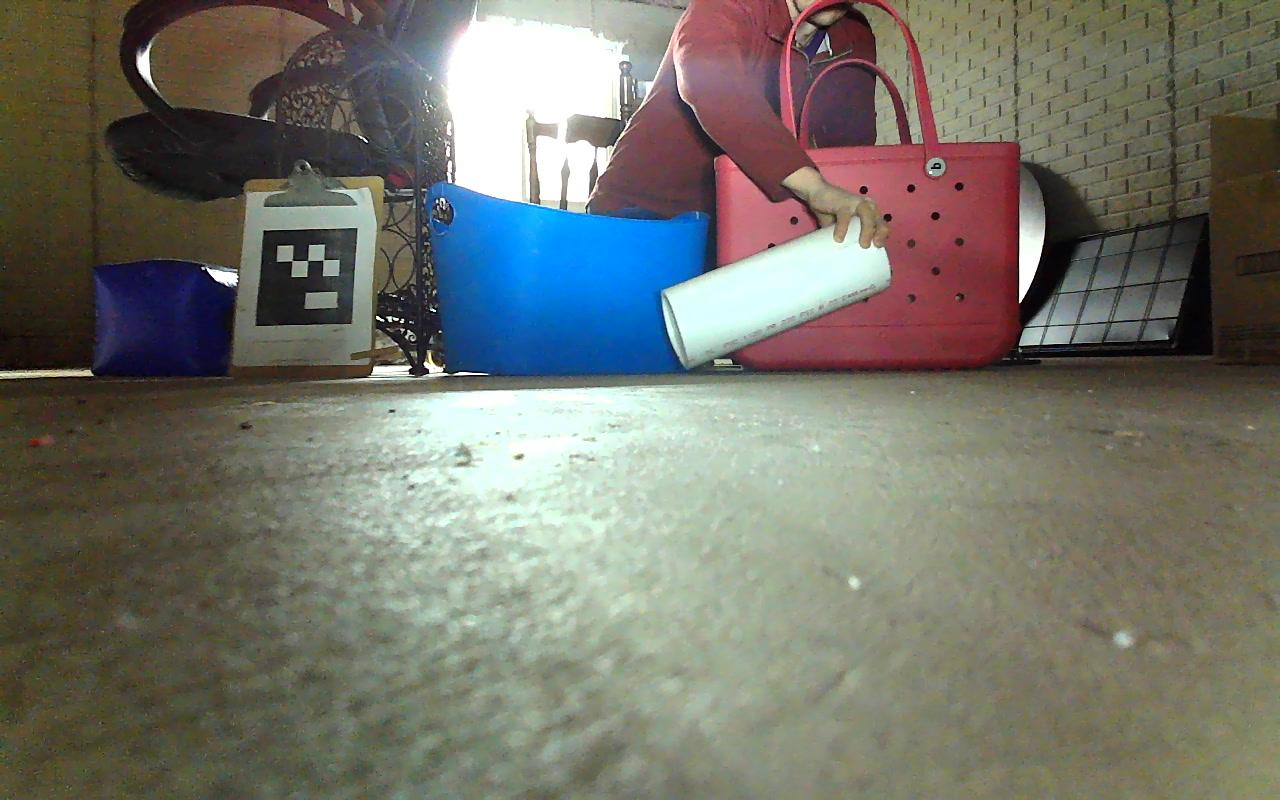coral: (655, 210, 899, 372)
